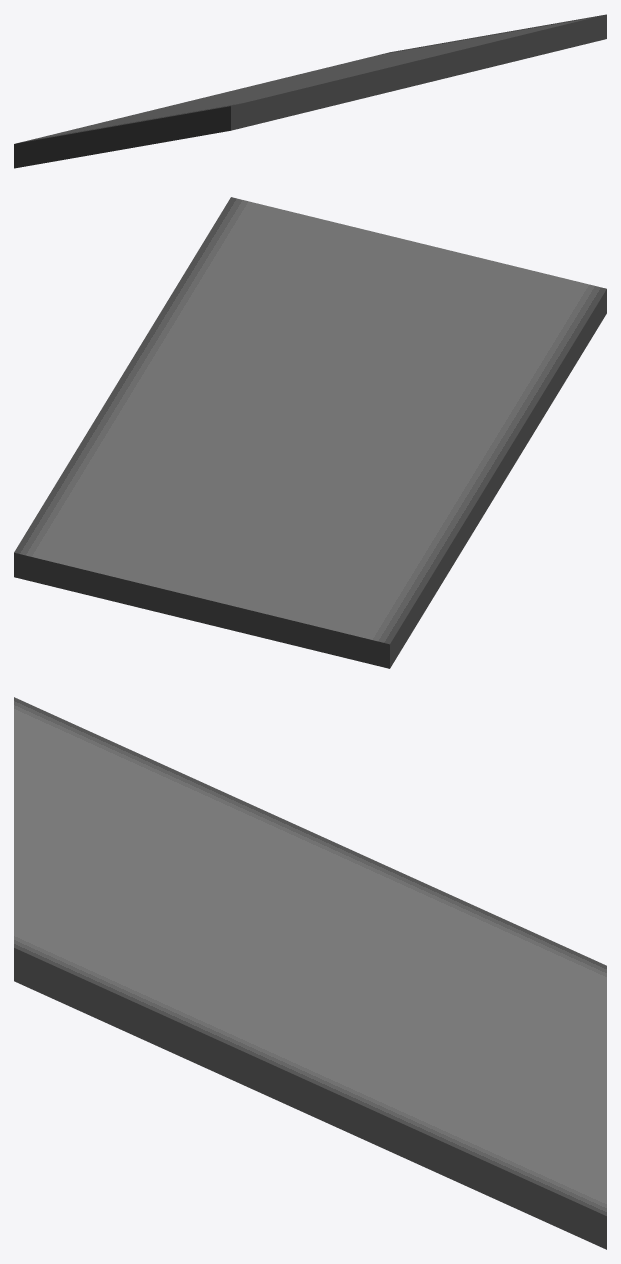
File: CalShipRamp1.gltf
The picture shows the model from 3 angles, top to bottom: view 1: azimuth 30°, elevation 25°; view 2: azimuth 150°, elevation 25°; view 3: azimuth 270°, elevation 25°; orthographic projection. The views are drawn at different scales.
Parts seen in each view (by area): view 1: ShipMid; view 2: ShipMid; view 3: ShipMid.
Part boxes in pixels (box(x1,y1,x2,y2)): ShipMid: box(14, 14, 606, 168); ShipMid: box(14, 197, 606, 668); ShipMid: box(14, 697, 606, 1249).
Size of the model in its own units: 1 by 0.5625 by 1.
1 material, 1 textured.
